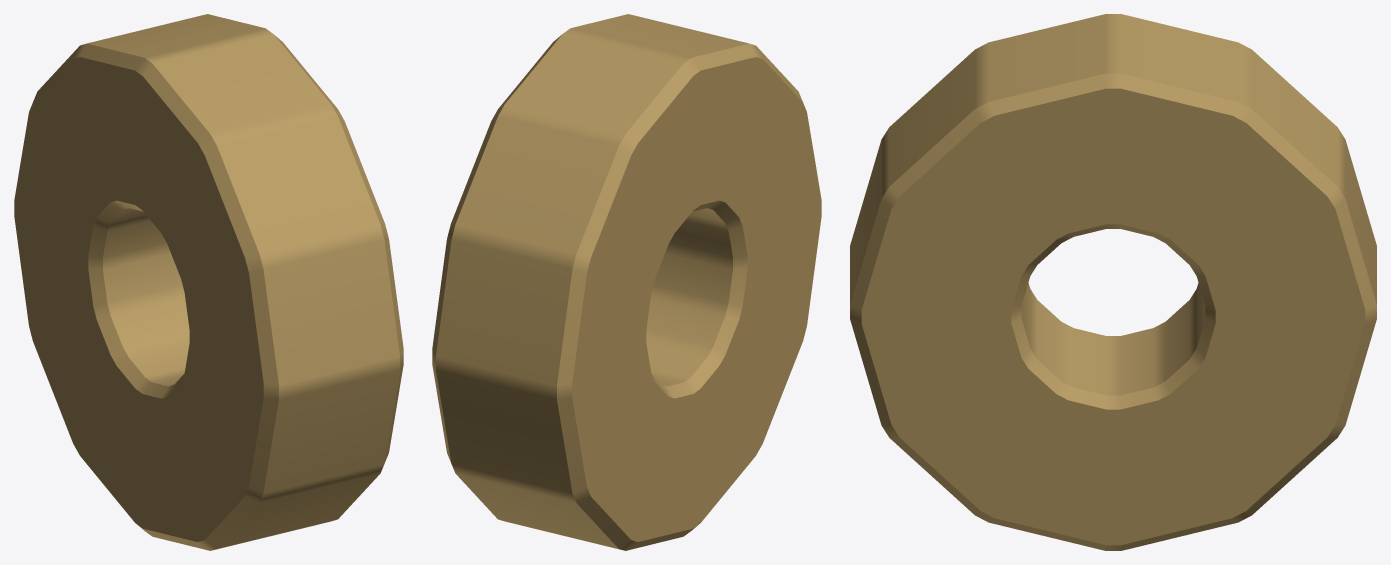
The model's file is Sparky Wheel.fbx.
The picture shows the model from 3 angles, left to right: view 1: azimuth 30°, elevation 25°; view 2: azimuth 150°, elevation 25°; view 3: azimuth 270°, elevation 25°; orthographic projection.
Parts seen in each view (by area): view 1: Sparky:pCylinder7; view 2: Sparky:pCylinder7; view 3: Sparky:pCylinder7.
Boxes of the visible parts, <box> form: Sparky:pCylinder7: <box>14,14,403,550</box>; Sparky:pCylinder7: <box>432,14,821,550</box>; Sparky:pCylinder7: <box>850,14,1376,550</box>.
Bounding box in the file's own units: 23.27 × 75.12 × 75.12.
